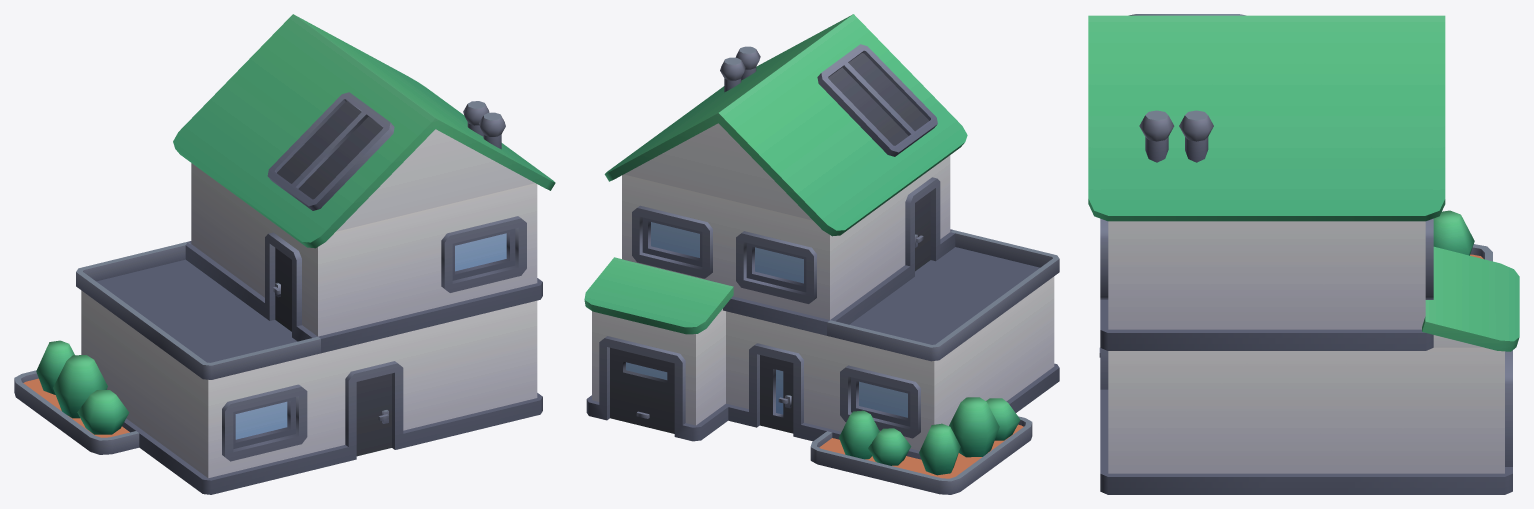
Rendered from k-city-kit-suburban-building-type-u.glb.
3 views of the same model, side by side, from view 1: azimuth 30°, elevation 25°; view 2: azimuth 150°, elevation 25°; view 3: azimuth 270°, elevation 25° (orthographic). The views are drawn at different scales.
Parts seen in each view (by area): view 1: building-type-u; view 2: building-type-u; view 3: building-type-u.
Part boxes in pixels (box(x1,y1,x2,y2)): building-type-u: box(14, 14, 555, 494); building-type-u: box(584, 14, 1059, 494); building-type-u: box(1088, 14, 1519, 494).
Size of the model in its own units: 1.43 by 1.14 by 1.09.
1 material, 1 textured.
